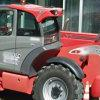Tractor: (7, 4, 100, 100)
